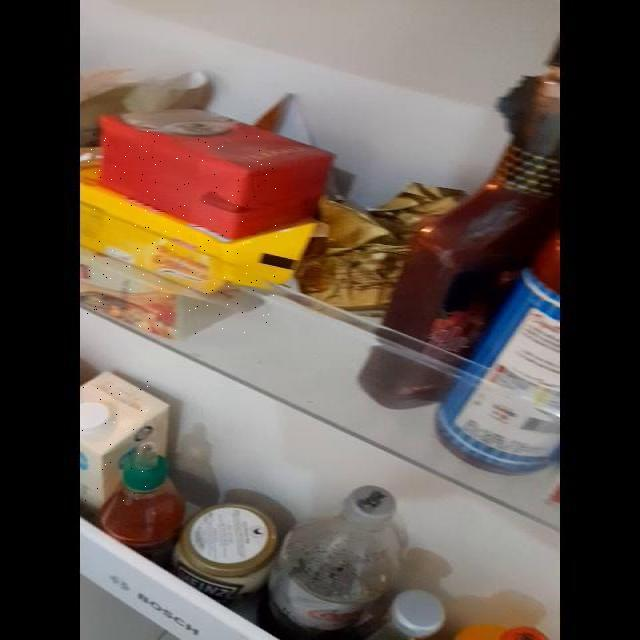butter: (87, 131, 277, 336)
milk: (80, 379, 149, 507)
